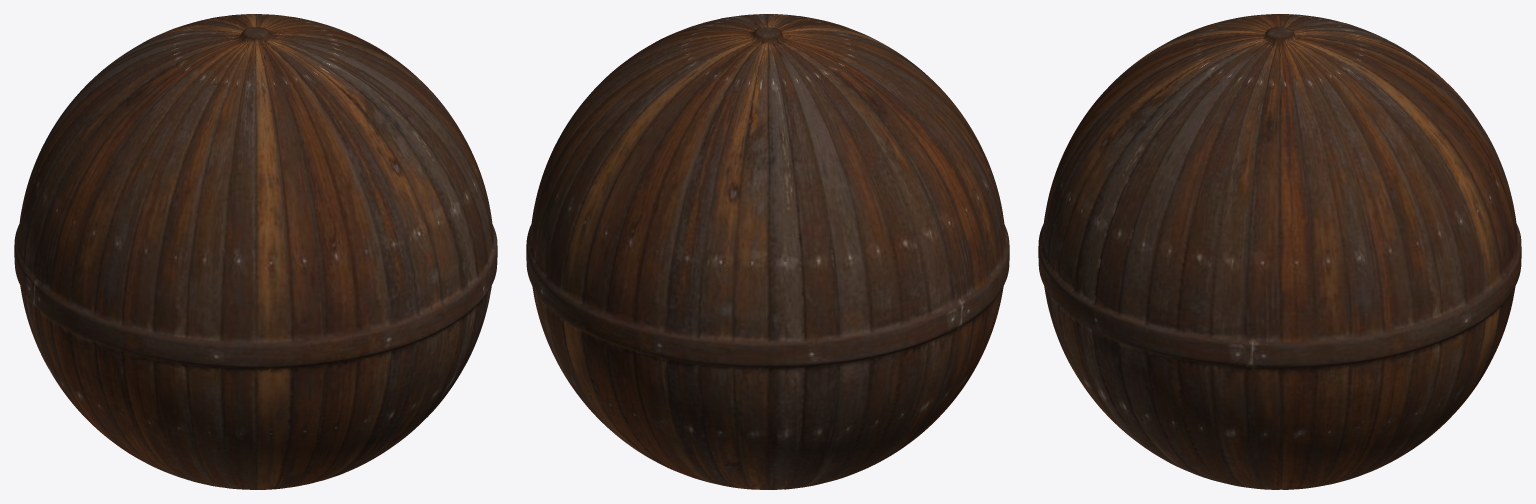
Rendered from wooden_gate_1k.gltf.
3 views of the same model, side by side, from view 1: azimuth 30°, elevation 25°; view 2: azimuth 150°, elevation 25°; view 3: azimuth 270°, elevation 25° (orthographic).
Visible parts, largest first — view 1: sphere_gltf; view 2: sphere_gltf; view 3: sphere_gltf.
Part boxes in pixels (x1=…): sphere_gltf: x1=14, y1=14, x2=497, y2=489; sphere_gltf: x1=526, y1=14, x2=1009, y2=489; sphere_gltf: x1=1038, y1=14, x2=1521, y2=489.
Size of the model in its own units: 1.93 by 1.94 by 1.93.
